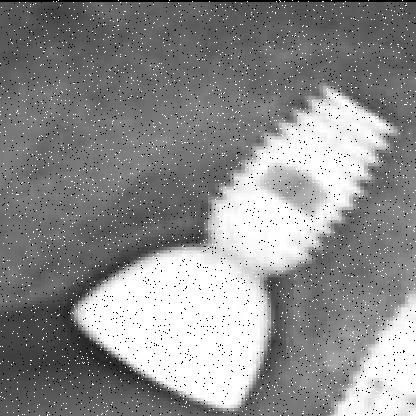Bicon: (195, 62, 393, 268)
